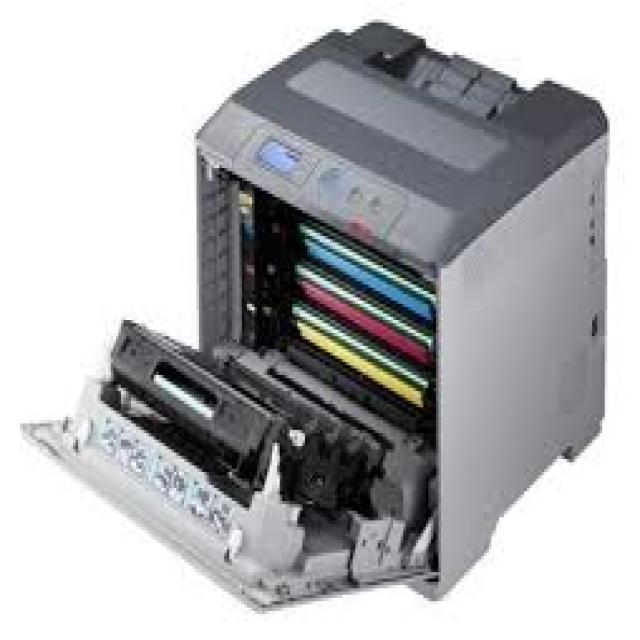printer: (16, 18, 611, 616)
